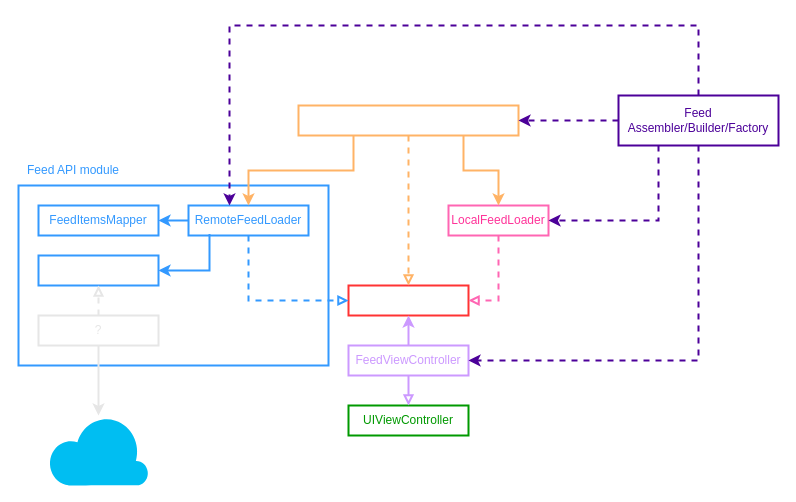
Image size: 796x502. Some labels were removed from this diagram. The shapes that lost their labels are listed below. From the top down, each one's box as (x1, y1, x2, y2) in pixels, then its label:
(297, 104, 519, 136): RemoteWithLocalFallbackFeedLoader
(37, 254, 159, 286): <HTTPClient>
(347, 284, 469, 316): <Feed Feature>
